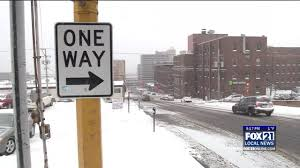oneWay: (54, 21, 115, 98)
